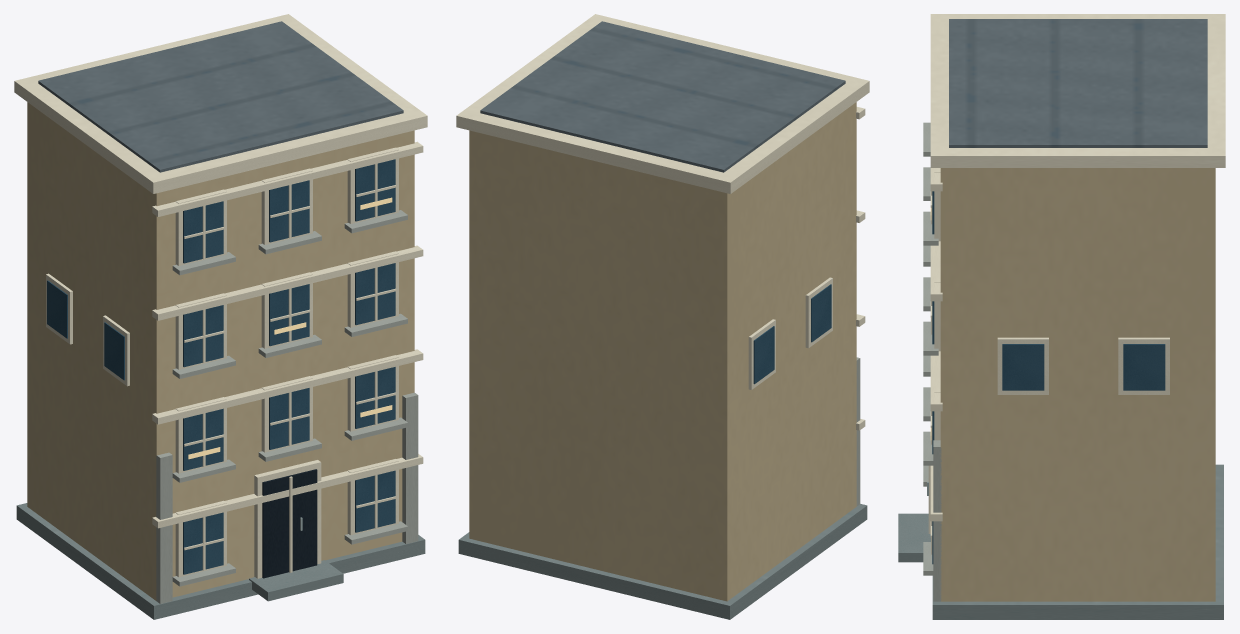
File: apartment-intact-lod.glb
3 views of the same model, side by side, from view 1: azimuth 30°, elevation 25°; view 2: azimuth 150°, elevation 25°; view 3: azimuth 270°, elevation 25° (orthographic). The views are drawn at different scales.
Visible parts, largest first — view 1: apartment-intact-lod; view 2: apartment-intact-lod; view 3: apartment-intact-lod.
Boxes of the visible parts, box(x1,y1,x2,y2) form: apartment-intact-lod: box(14, 14, 427, 619); apartment-intact-lod: box(456, 14, 869, 619); apartment-intact-lod: box(898, 14, 1225, 619).
Size of the model in its own units: 5.74 by 8.82 by 5.6.
Materials: 4 (4 with a texture image).
